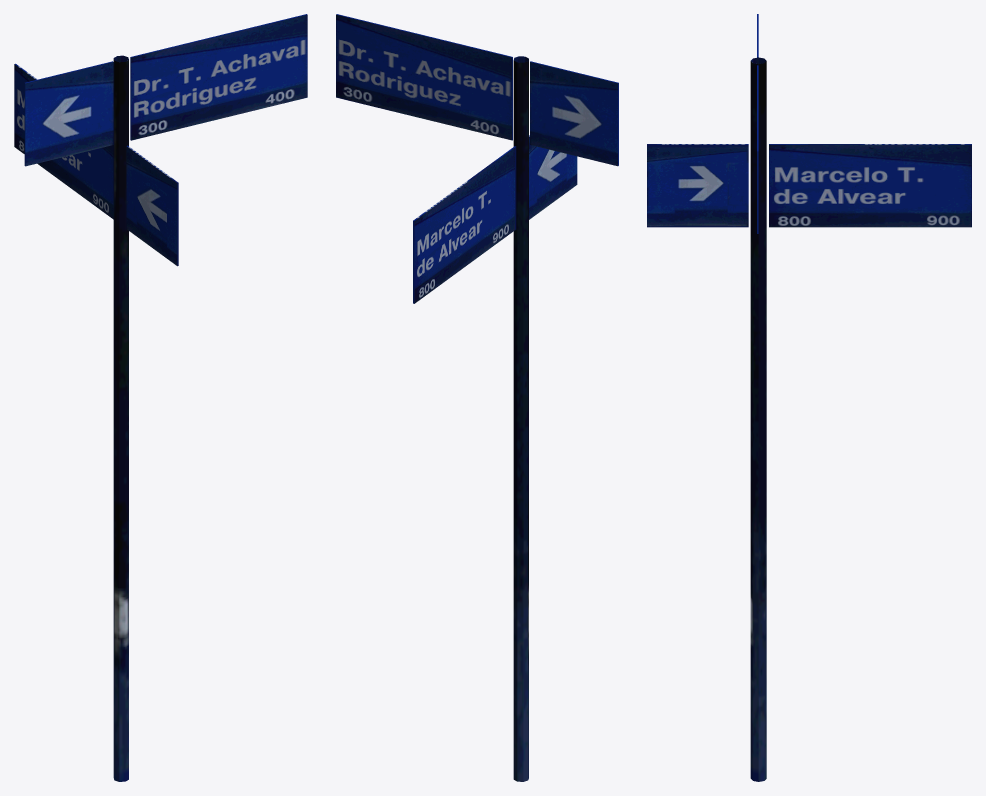
File: Dr. T. Achaval Rodriguez_esq_Marcelo T.fbx
The picture shows the model from 3 angles, left to right: view 1: azimuth 30°, elevation 25°; view 2: azimuth 150°, elevation 25°; view 3: azimuth 270°, elevation 25°; orthographic projection.
Parts seen in each view (by area): view 1: Dr. T. Achaval Rodriguez_esq_Marcelo T.; view 2: Dr. T. Achaval Rodriguez_esq_Marcelo T.; view 3: Dr. T. Achaval Rodriguez_esq_Marcelo T..
Part boxes in pixels (x1,y1,x2,y2): Dr. T. Achaval Rodriguez_esq_Marcelo T.: [14, 14, 307, 781]; Dr. T. Achaval Rodriguez_esq_Marcelo T.: [336, 14, 618, 781]; Dr. T. Achaval Rodriguez_esq_Marcelo T.: [647, 14, 971, 781].
Bounding box in the file's own units: 3.2 × 7.8 × 3.2.
